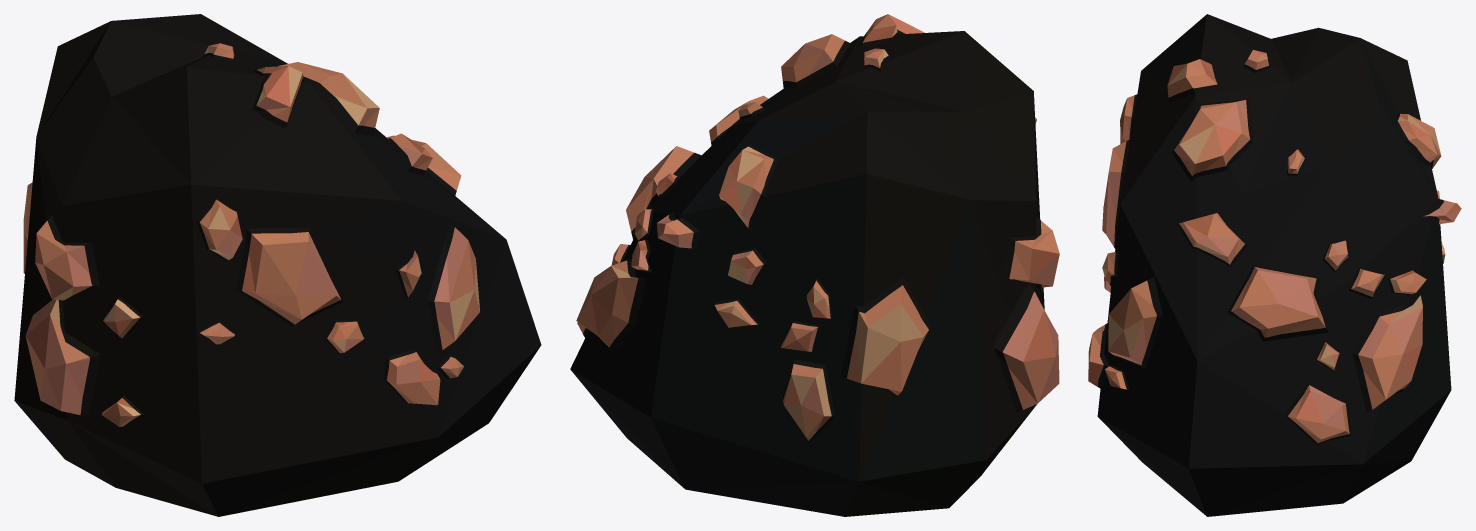
Rendered from Iron Ore Rock.obj.
3 renders of one model, left to right at view 1: azimuth 30°, elevation 25°; view 2: azimuth 150°, elevation 25°; view 3: azimuth 270°, elevation 25°, orthographic. The views are drawn at different scales.
Visible parts, largest first — view 1: Iron_Ore_Rock.Static; view 2: Iron_Ore_Rock.Static; view 3: Iron_Ore_Rock.Static.
Part boxes in pixels (x1=…): Iron_Ore_Rock.Static: x1=14, y1=14, x2=541, y2=516; Iron_Ore_Rock.Static: x1=570, y1=14, x2=1059, y2=516; Iron_Ore_Rock.Static: x1=1088, y1=14, x2=1461, y2=516.
Bounding box in the file's own units: 1.44 × 1.27 × 1.15.
